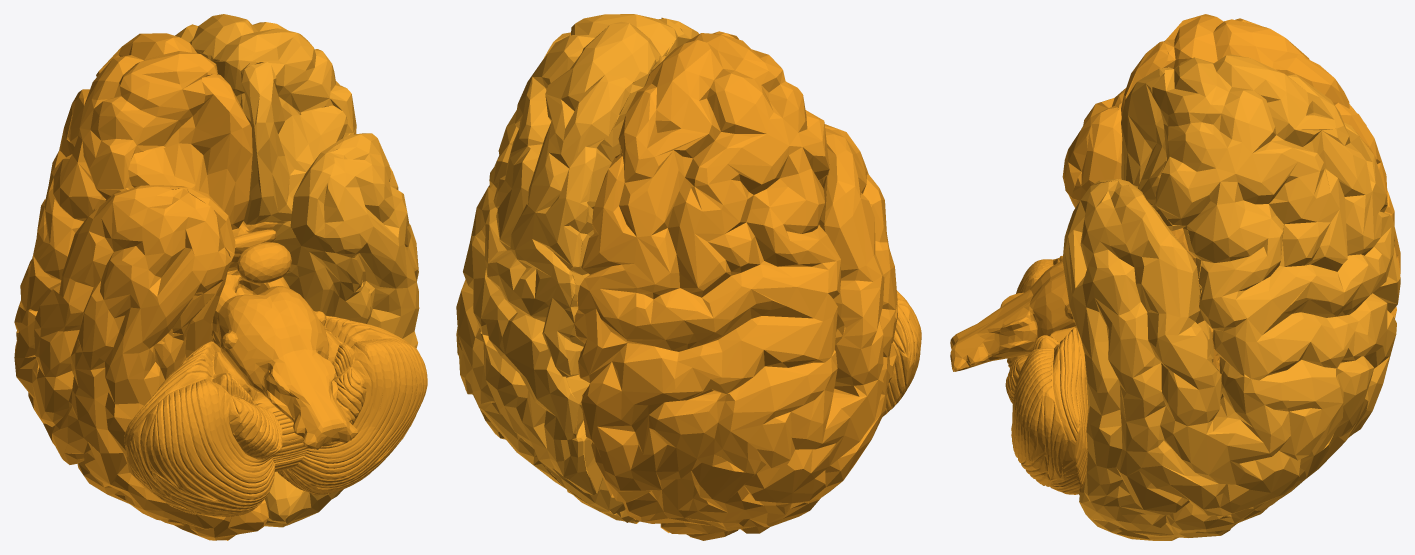
The model's file is Brain_Model.glb.
3 views of the same model, side by side, from view 1: azimuth 30°, elevation 25°; view 2: azimuth 150°, elevation 25°; view 3: azimuth 270°, elevation 25° (orthographic). The views are drawn at different scales.
Visible parts, largest first — view 1: imagetostl_mesh5, imagetostl_mesh3, imagetostl_mesh1, imagetostl_mesh4, imagetostl_mesh0; view 2: imagetostl_mesh5, imagetostl_mesh3, imagetostl_mesh1; view 3: imagetostl_mesh3, imagetostl_mesh5, imagetostl_mesh1, imagetostl_mesh4.
Part boxes in pixels (bbox=[...]): imagetostl_mesh5: bbox=[14, 33, 268, 540]; imagetostl_mesh3: bbox=[175, 14, 419, 527]; imagetostl_mesh1: bbox=[124, 316, 427, 516]; imagetostl_mesh4: bbox=[198, 221, 357, 449]; imagetostl_mesh0: bbox=[236, 242, 291, 283]; imagetostl_mesh5: bbox=[574, 31, 897, 540]; imagetostl_mesh3: bbox=[456, 14, 698, 523]; imagetostl_mesh1: bbox=[882, 291, 921, 416]; imagetostl_mesh3: bbox=[1062, 54, 1400, 540]; imagetostl_mesh5: bbox=[1062, 14, 1400, 318]; imagetostl_mesh1: bbox=[1005, 256, 1088, 494]; imagetostl_mesh4: bbox=[950, 228, 1220, 372].
Size of the model in its own units: 1.06 by 1.32 by 1.11.
